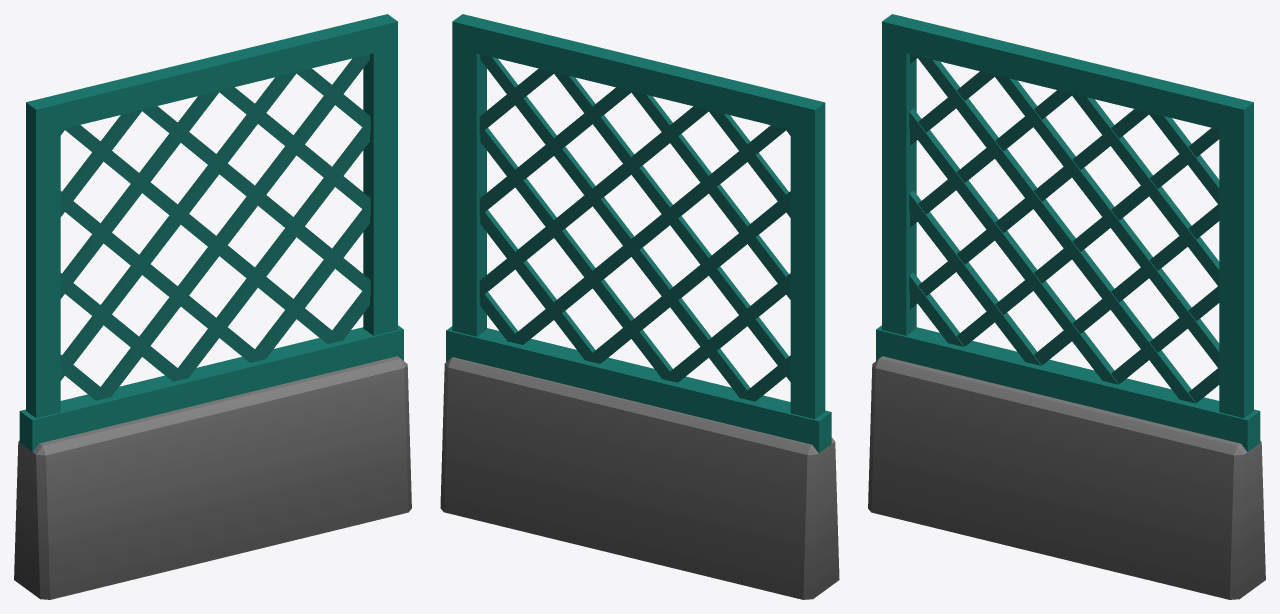
The model's file is Fence_1_E_7.fbx.
3 renders of one model, left to right at view 1: azimuth 30°, elevation 25°; view 2: azimuth 150°, elevation 25°; view 3: azimuth 330°, elevation 25°, orthographic.
Parts seen in each view (by area): view 1: Fence_1_E_7; view 2: Fence_1_E_7; view 3: Fence_1_E_7.
Part boxes in pixels (bbox=[...]): Fence_1_E_7: bbox=[14, 14, 411, 599]; Fence_1_E_7: bbox=[440, 14, 839, 599]; Fence_1_E_7: bbox=[868, 14, 1265, 599].
Size of the model in its own units: 200 by 248 by 30.52.
